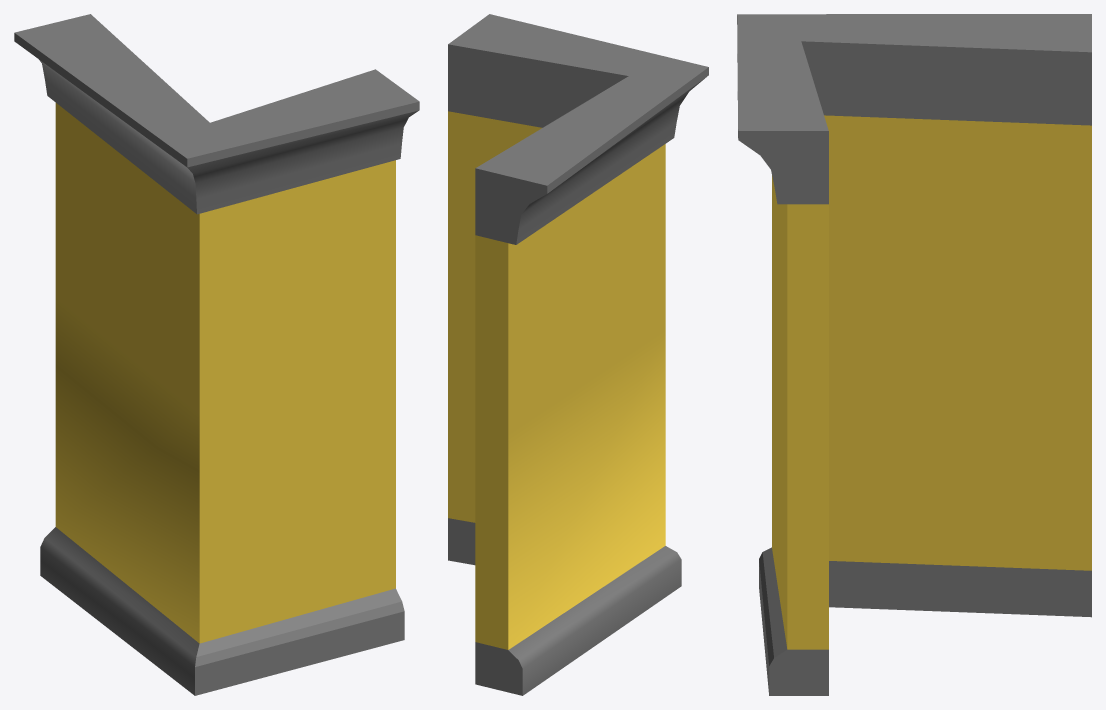
The model's file is Wall1_Base_Cornor.fbx.
The picture shows the model from 3 angles, left to right: view 1: azimuth 30°, elevation 25°; view 2: azimuth 150°, elevation 25°; view 3: azimuth 270°, elevation 25°; orthographic projection. The views are drawn at different scales.
Parts seen in each view (by area): view 1: Wall002_Base_Cornor; view 2: Wall002_Base_Cornor; view 3: Wall002_Base_Cornor.
Boxes of the visible parts, x1=… form: Wall002_Base_Cornor: x1=14, y1=14, x2=419, y2=695; Wall002_Base_Cornor: x1=448, y1=14, x2=708, y2=695; Wall002_Base_Cornor: x1=737, y1=14, x2=1091, y2=695.
Bounding box in the file's own units: 52.51 × 118 × 67.21.
